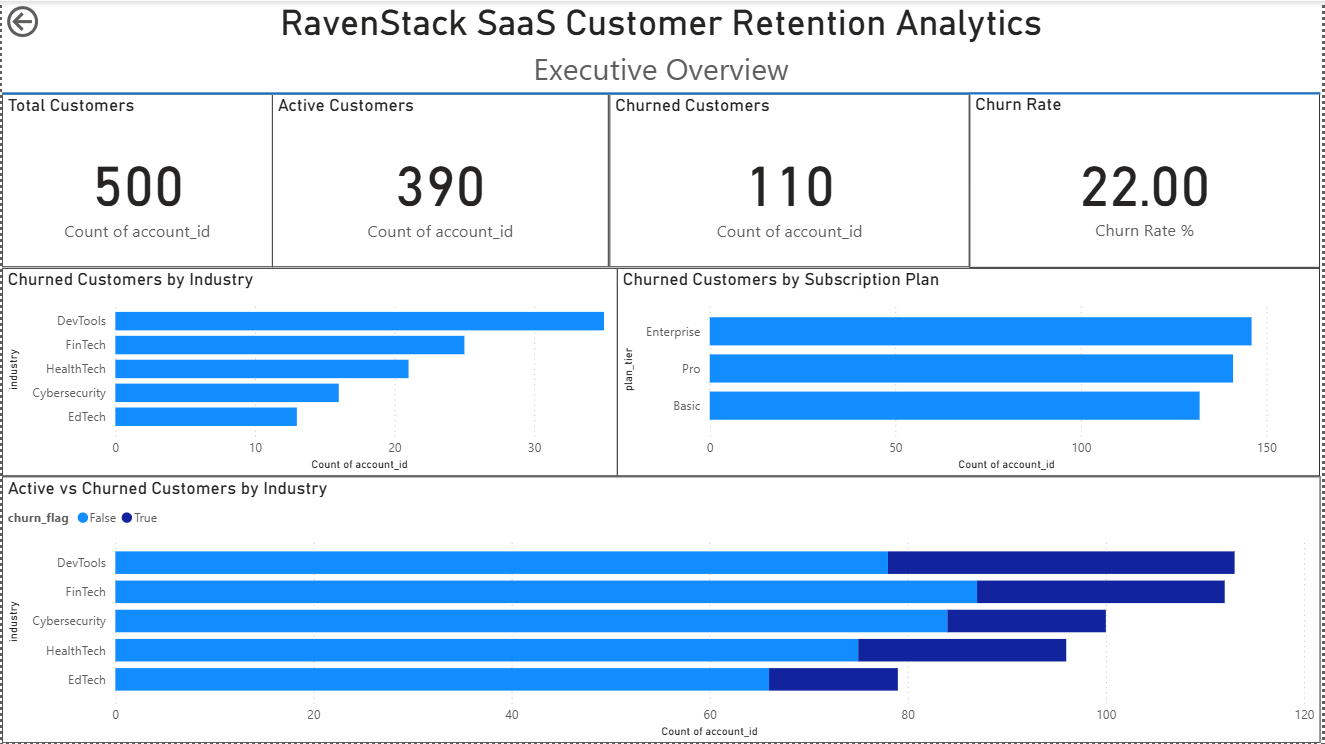

What the dashboard file says about the page in this screenshot:
{"tool":"powerbi","page":{"name":"Page 1","canvas":[1280,720],"ordinal":0},"visuals":[{"type":"actionButton","box":[0,0,100,40],"z":2000},{"type":"card","title":"Total Customers","fields":{"Values":["Count(ravenstack_accounts.account_id)"]},"box":[0,90.7,262.7,168.2],"z":2001},{"type":"card","title":"Active Customers","fields":{"Values":["Count(ravenstack_accounts.account_id)"]},"box":[262.7,90.7,326.9,168.2],"z":2002},{"type":"card","title":"Churned Customers","fields":{"Values":["Count(ravenstack_accounts.account_id)"]},"box":[589.6,90.7,349.6,168.2],"z":2003},{"type":"card","title":"Churn Rate","fields":{"Values":["ravenstack_accounts.Churn Rate %"]},"box":[939.2,88.8,340.2,170.1],"z":2004},{"type":"clusteredBarChart","title":"Churned Customers by Industry","fields":{"Category":["ravenstack_accounts.industry"],"Y":["Count(ravenstack_accounts.account_id)"]},"box":[0,258.9,597.2,202.2],"z":2005},{"type":"clusteredBarChart","title":"Churned Customers by Subscription Plan","fields":{"Y":["Count(ravenstack_subscriptions.account_id)"],"Category":["ravenstack_subscriptions.plan_tier"]},"box":[597.2,258.9,682.2,202.2],"z":2006},{"type":"barChart","title":"Active vs Churned Customers by Industry","fields":{"Category":["ravenstack_accounts.industry"],"Y":["Count(ravenstack_accounts.account_id)"],"Series":["ravenstack_accounts.churn_flag"]},"box":[0,461.1,1279.4,258.9],"z":2007},{"type":"shape","title":"RavenStack SaaS Customer Retention Analytics","box":[0,0,1279.4,90.7],"z":2008}]}

Visuals, with their boxes in screenshot pixels (x1, y1, x2, y2), scaled from the page's 1280x720 canvas onto the 1325x744 screenshot:
actionButton: bbox=(0, 0, 104, 41)
"Total Customers" card: bbox=(0, 94, 272, 268)
"Active Customers" card: bbox=(272, 94, 610, 268)
"Churned Customers" card: bbox=(610, 94, 972, 268)
"Churn Rate" card: bbox=(972, 92, 1324, 268)
"Churned Customers by Industry" clusteredBarChart: bbox=(0, 268, 618, 476)
"Churned Customers by Subscription Plan" clusteredBarChart: bbox=(618, 268, 1324, 476)
"Active vs Churned Customers by Industry" barChart: bbox=(0, 476, 1324, 743)
"RavenStack SaaS Customer Retention Analytics" shape: bbox=(0, 0, 1324, 94)
